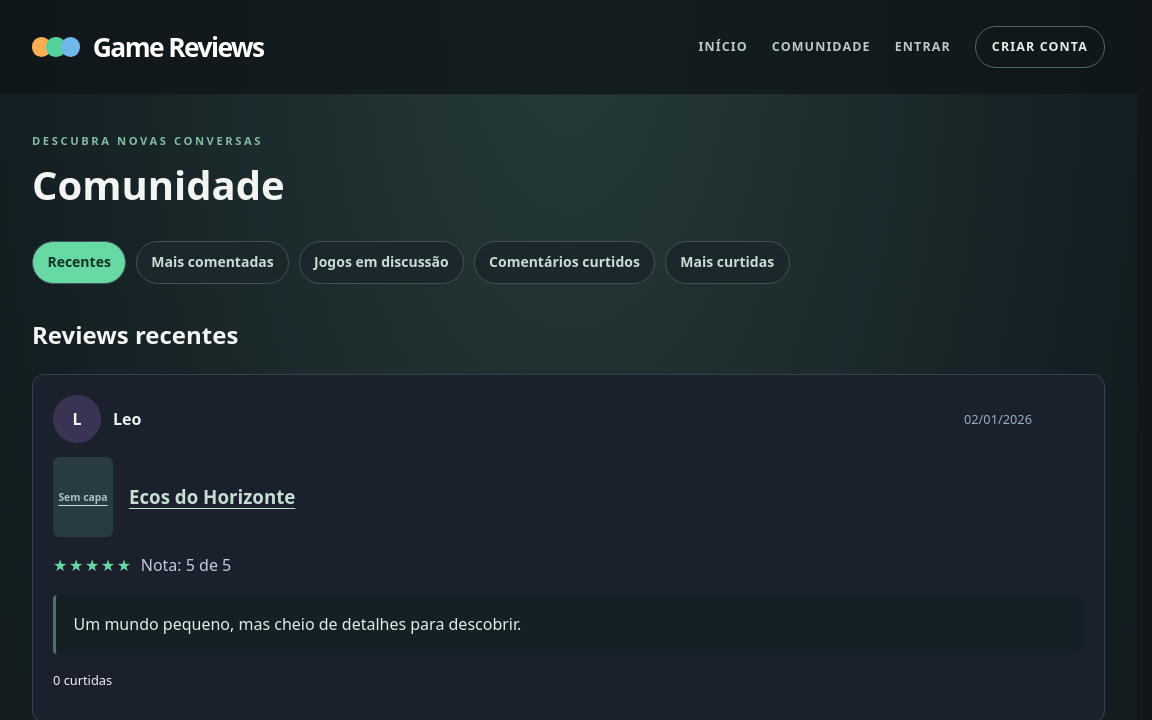
descarta resposta de período antigo
This screenshot has width=1152, height=720.
Click the button "Jogos em discussão": (381, 262) [299,240,464,284]
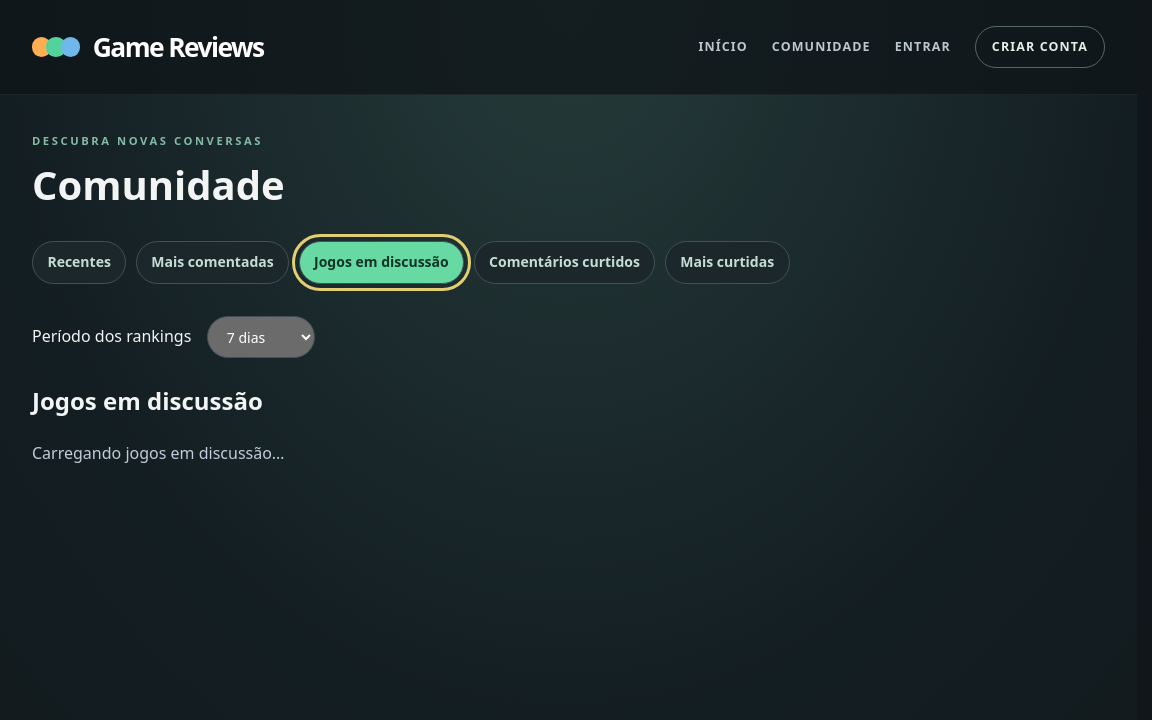
Expected: the text "Carregando jogos em discussão…" is shown, [32,442,284,464]
Select "24 horas" in the dropdown: (261, 337) [207,316,315,358]
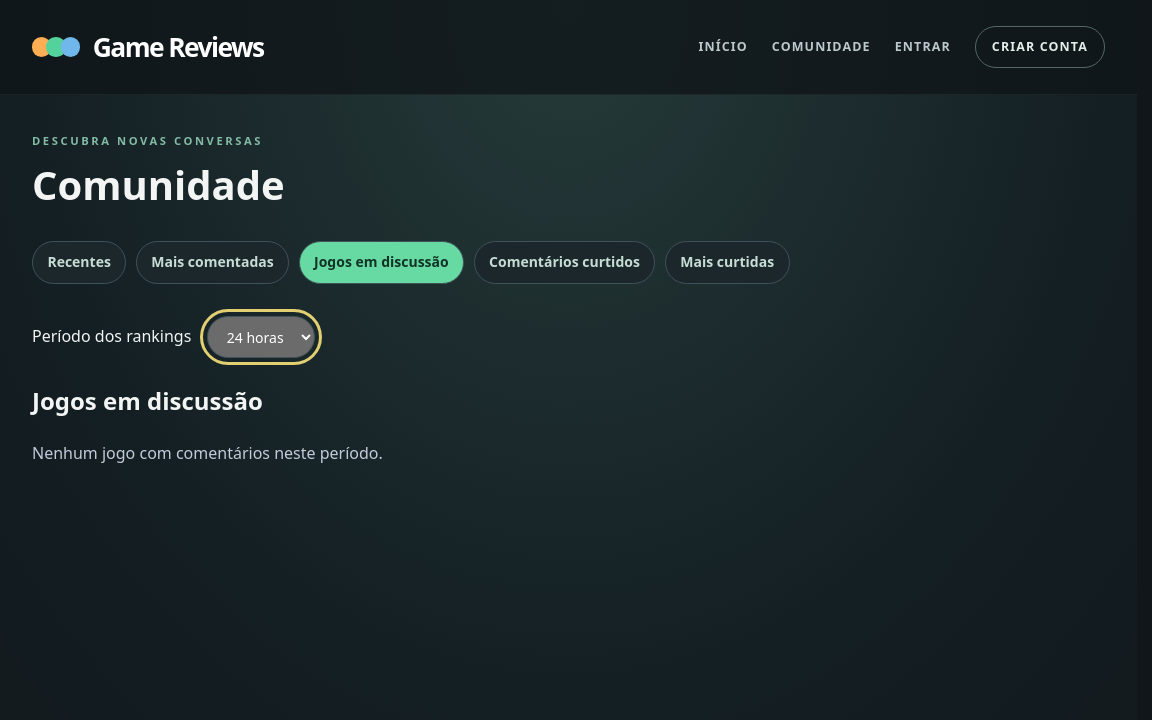
Expected: the link "Ecos do Horizonte" is not shown
Expected: the text "Nenhum jogo com comentários neste período." is shown, [32,442,383,464]
